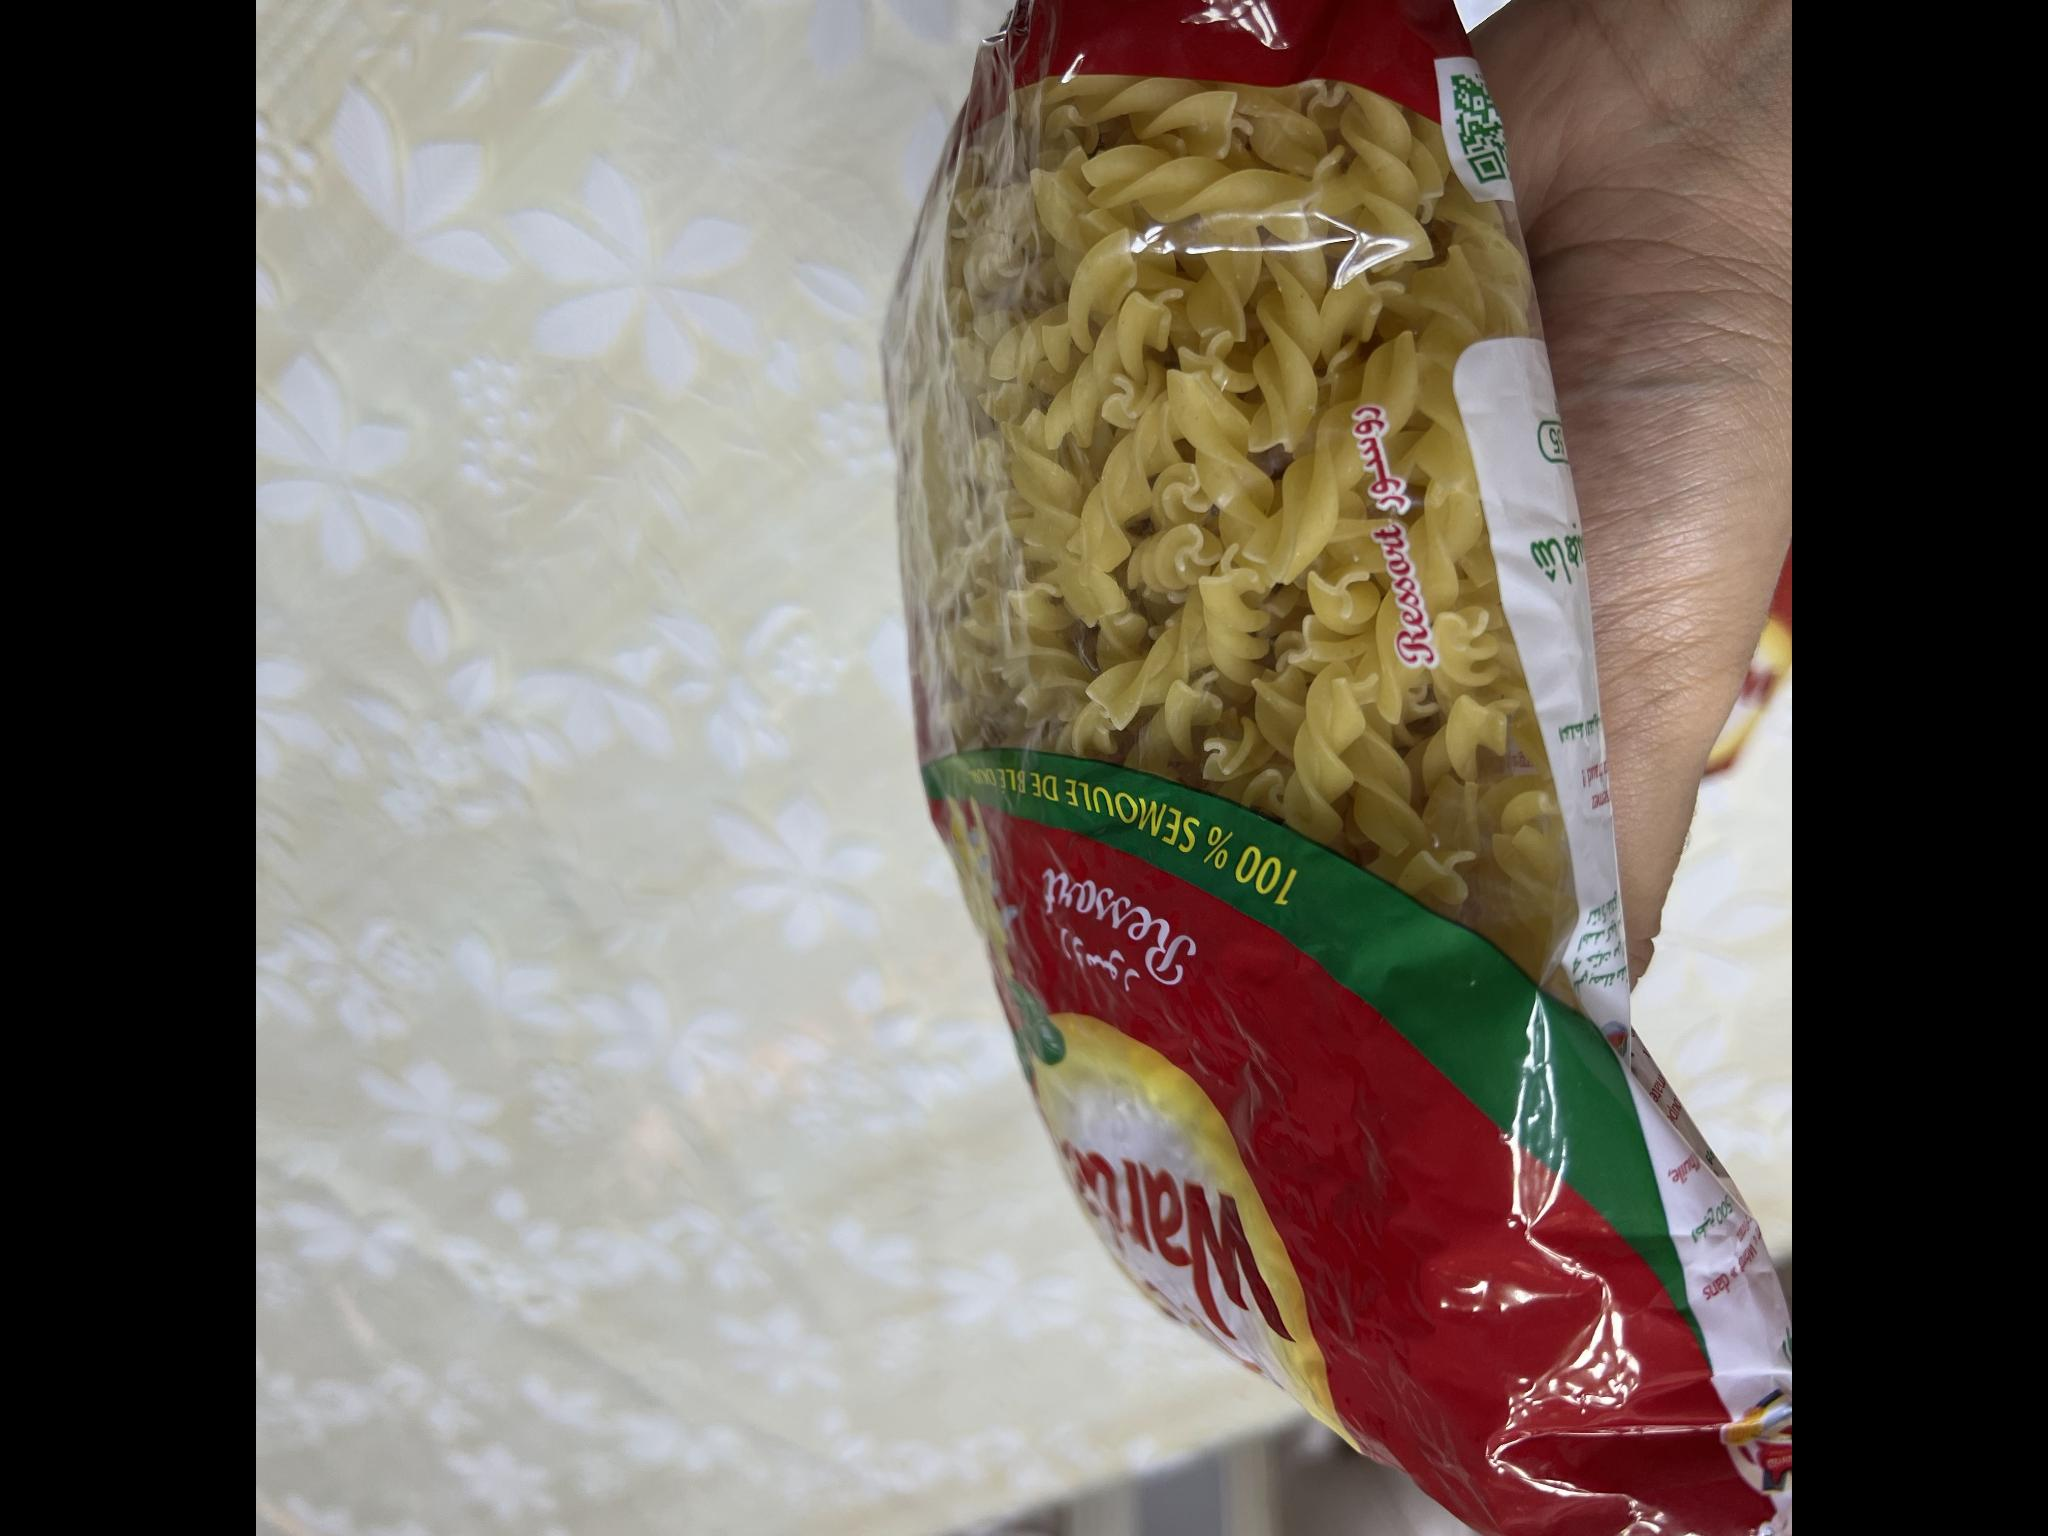Ressort: (882, 0, 1788, 1536)
